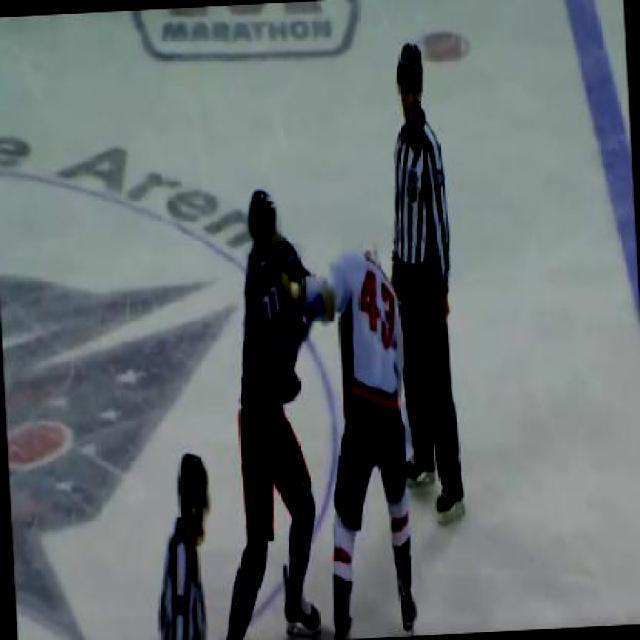fight: (198, 187, 420, 638)
non-fight: (376, 38, 469, 526)
